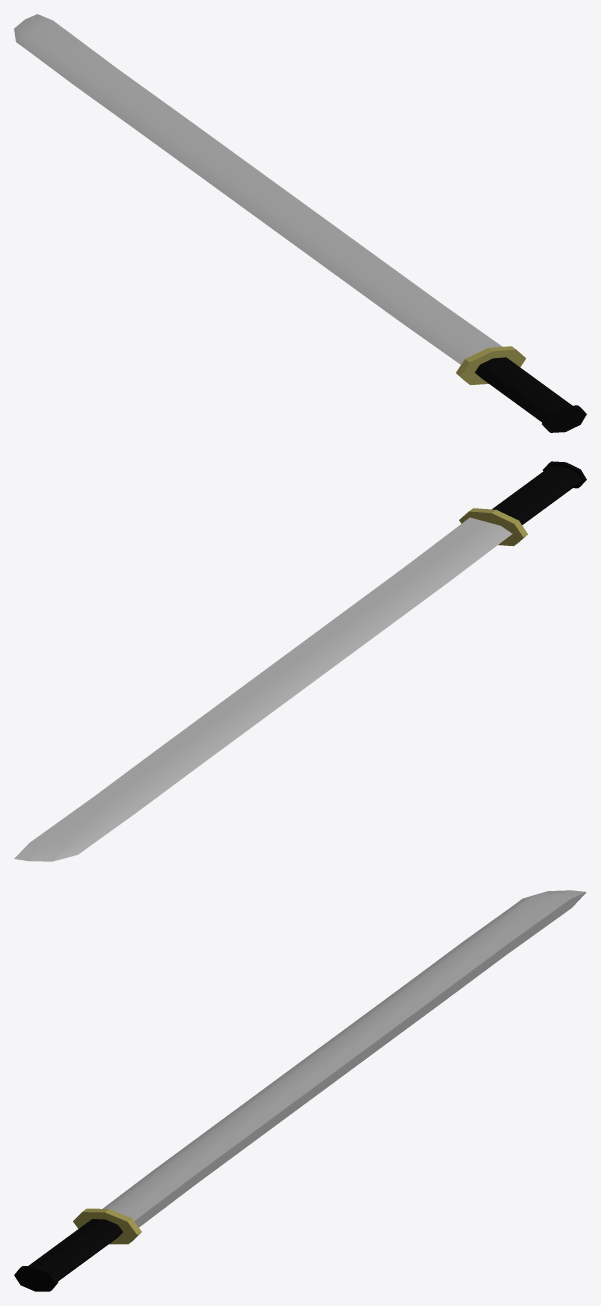
Rendered from Katana.fbx.
3 renders of one model, top to bottom at view 1: azimuth 30°, elevation 25°; view 2: azimuth 150°, elevation 25°; view 3: azimuth 330°, elevation 25°, orthographic. The views are drawn at different scales.
Visible parts, largest first — view 1: GAM7003_Katana; view 2: GAM7003_Katana; view 3: GAM7003_Katana.
Boxes of the visible parts, x1,y1,x2,y2 form: GAM7003_Katana: [14, 14, 586, 432]; GAM7003_Katana: [14, 461, 586, 861]; GAM7003_Katana: [14, 890, 586, 1291].
Bounding box in the file's own units: 6.99 × 3.28 × 100.
